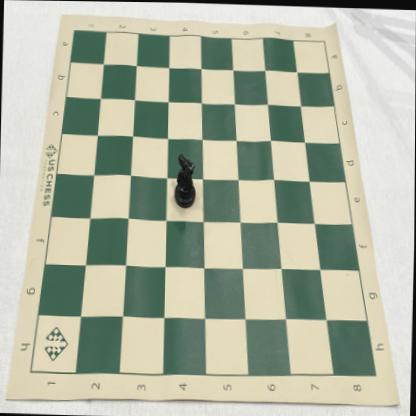black-knight: (173, 153, 197, 208)
